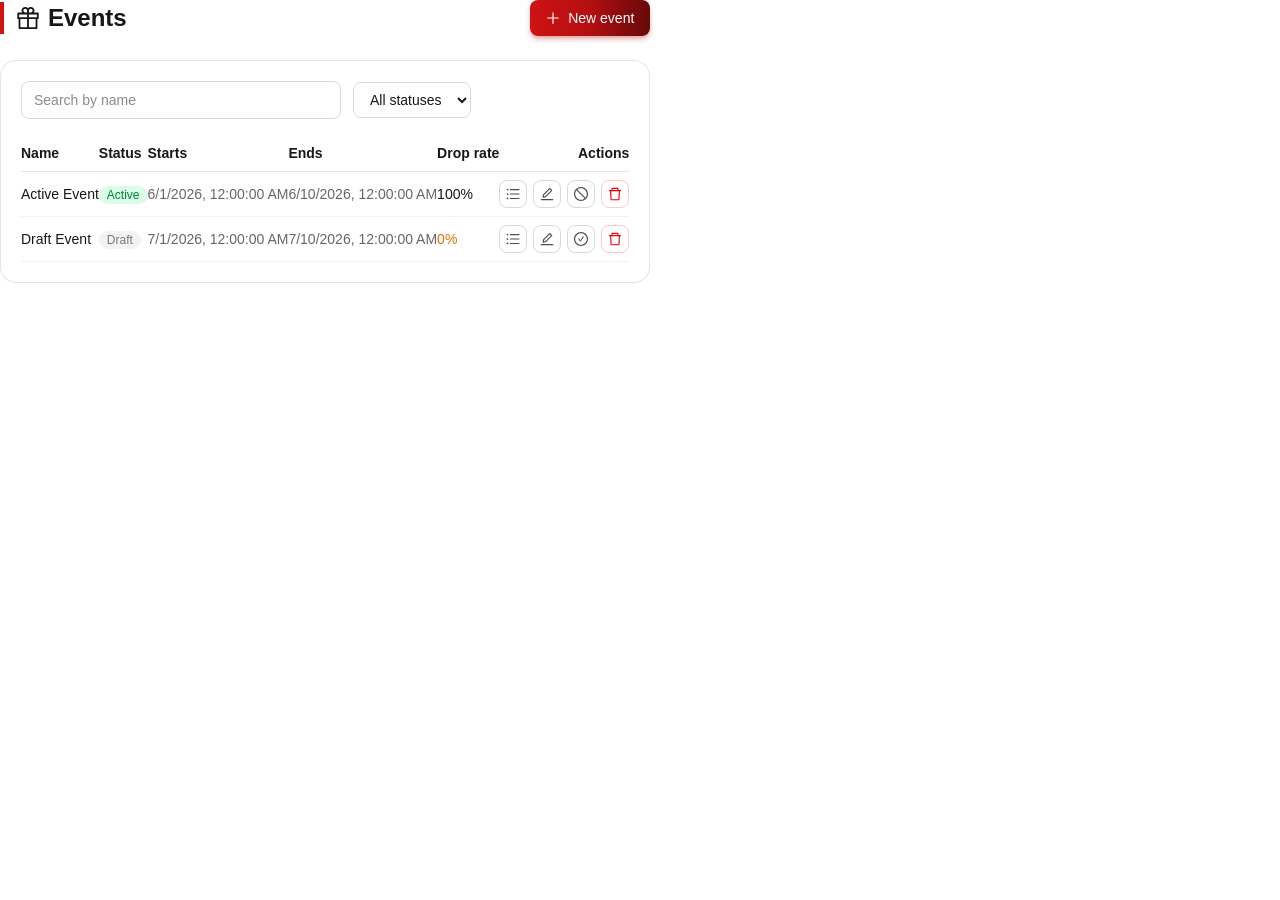
Scenario: opens create form dialog on button click
Expected: the text "Active Event" is shown, [21,172,99,216]
Step 1. Click the button "New event" → (590, 18), box [530,0,650,36]
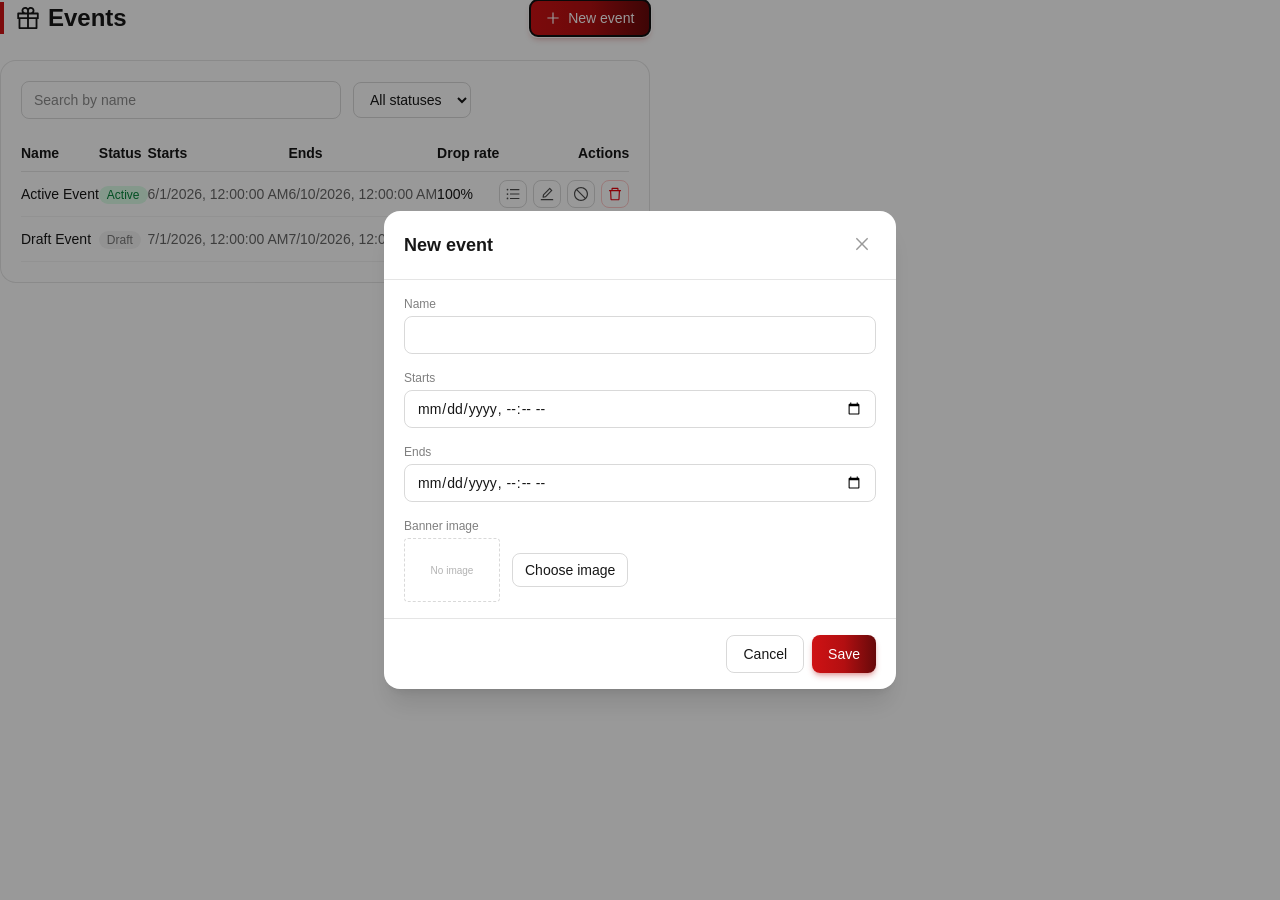
Result: the heading "New event" is shown at [404,231,493,259]
